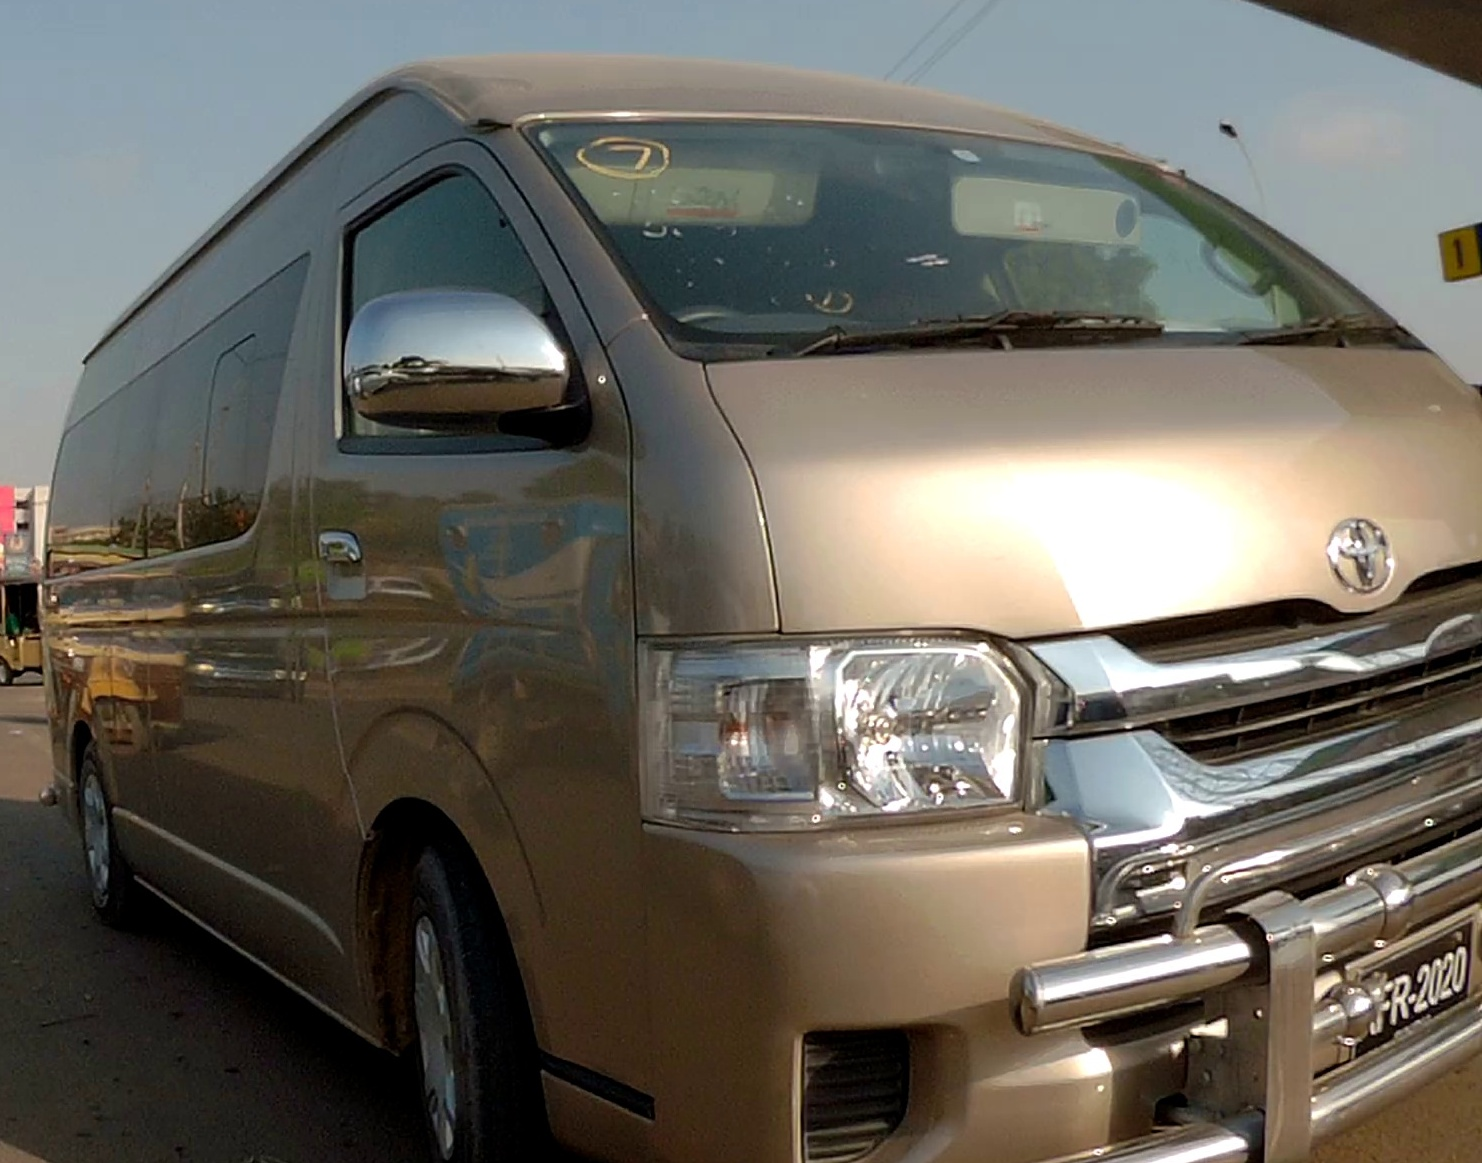van: (41, 52, 1482, 1163)
